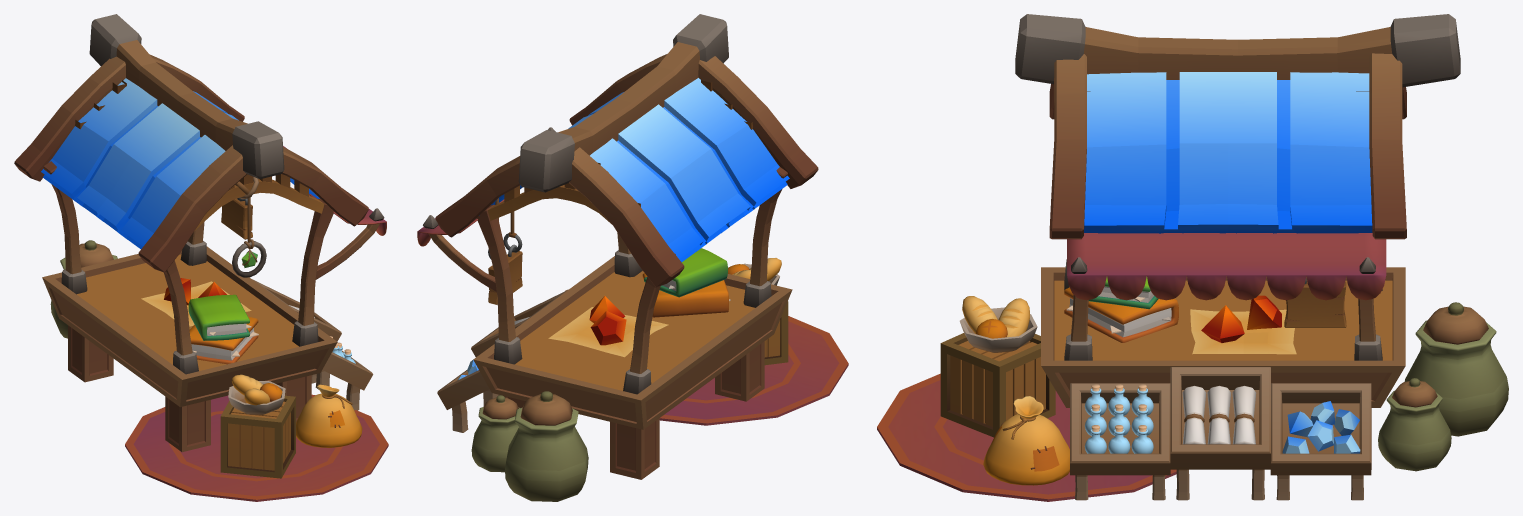
The model's file is obj_ShopTent.fbx.
3 views of the same model, side by side, from view 1: azimuth 30°, elevation 25°; view 2: azimuth 150°, elevation 25°; view 3: azimuth 270°, elevation 25° (orthographic). The views are drawn at different scales.
Visible parts, largest first — view 1: obj_ShopTent; view 2: obj_ShopTent; view 3: obj_ShopTent.
Boxes of the visible parts, <box> form: obj_ShopTent: <box>14,14,388,501</box>; obj_ShopTent: <box>417,14,848,501</box>; obj_ShopTent: <box>877,14,1508,501</box>.
Bounding box in the file's own units: 221 × 266 × 369.
